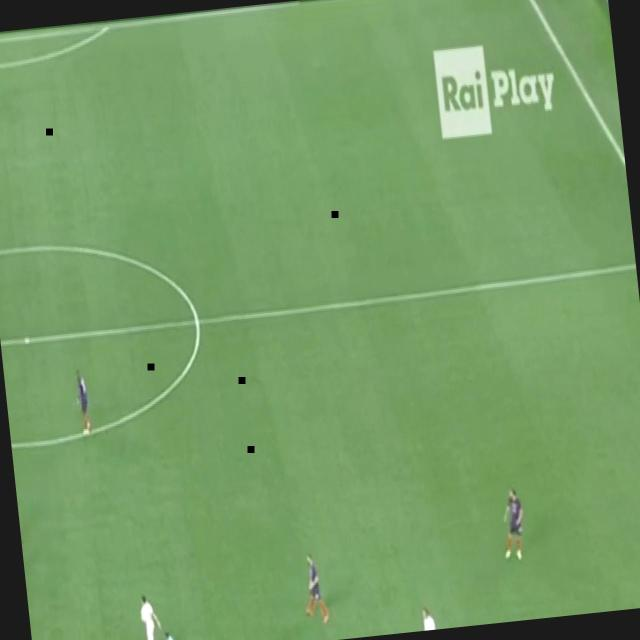player-white: (296, 547, 332, 630), (495, 483, 530, 565), (70, 361, 93, 443), (135, 587, 165, 640), (14, 472, 24, 551), (413, 602, 439, 632), (159, 625, 184, 640)
